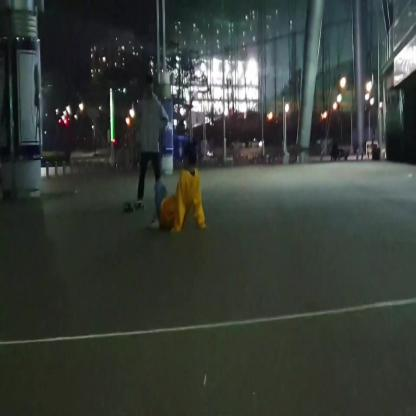Fall_Down: (148, 142, 208, 236)
